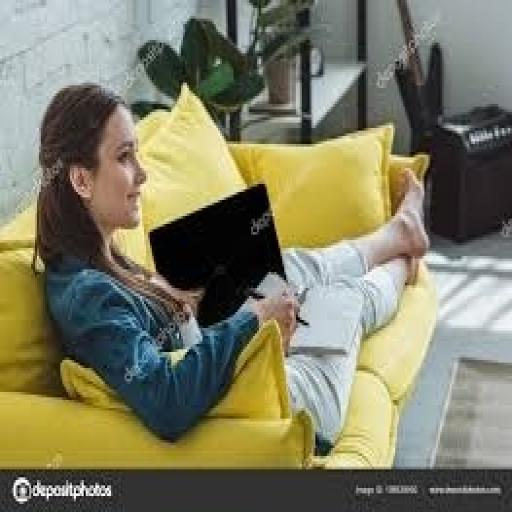using_laptop: (146, 179, 356, 357)
